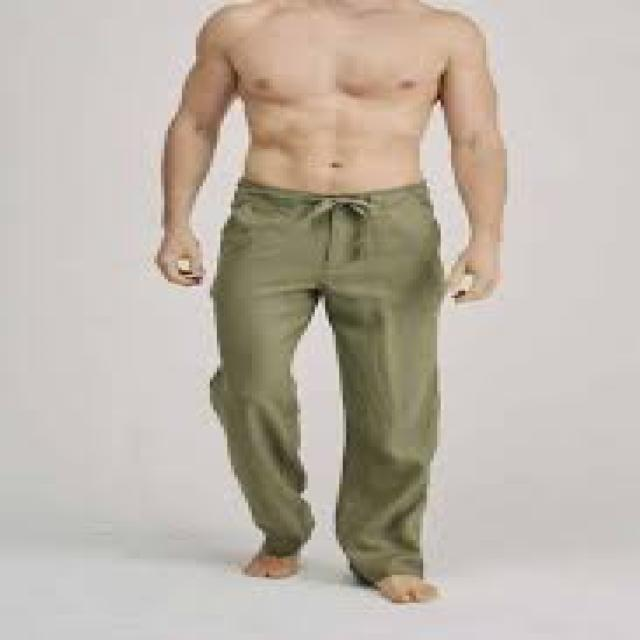pants: (203, 174, 460, 574)
